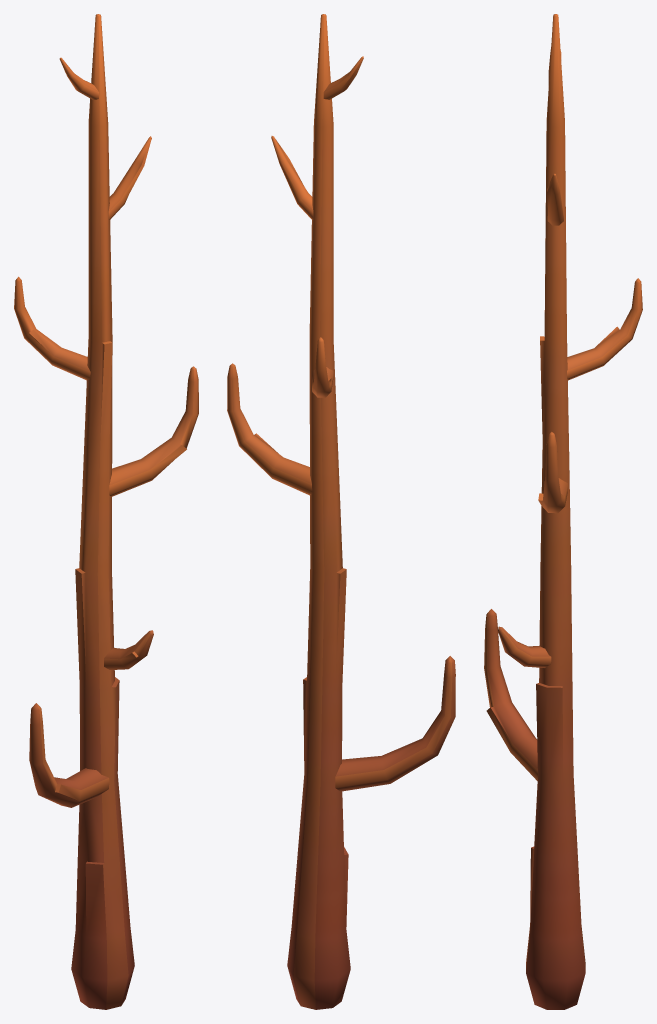
Rendered from tree_bare_2_c_color1.glb.
3 views of the same model, side by side, from view 1: azimuth 30°, elevation 25°; view 2: azimuth 150°, elevation 25°; view 3: azimuth 270°, elevation 25° (orthographic).
Parts seen in each view (by area): view 1: Tree_Bare_2_C_Color1; view 2: Tree_Bare_2_C_Color1; view 3: Tree_Bare_2_C_Color1.
Part boxes in pixels (x1,y1,x2,y2): Tree_Bare_2_C_Color1: (14, 14, 198, 1009); Tree_Bare_2_C_Color1: (227, 14, 455, 1009); Tree_Bare_2_C_Color1: (484, 14, 642, 1009).
Size of the model in its own units: 1.58 by 7.61 by 1.1.
1 material, 1 textured.
